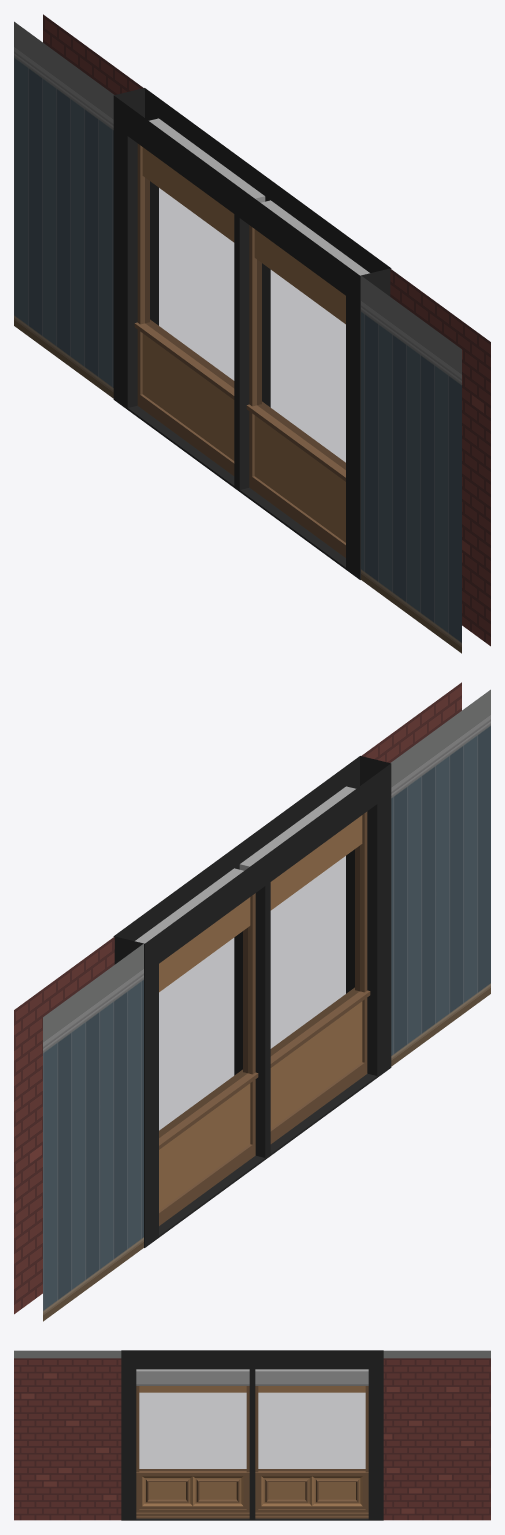
Rendered from SM_shopFront_03a.glb.
The picture shows the model from 3 angles, top to bottom: view 1: azimuth 30°, elevation 25°; view 2: azimuth 150°, elevation 25°; view 3: azimuth 270°, elevation 25°; orthographic projection. The views are drawn at different scales.
Parts seen in each view (by area): view 1: SM_shopFront_03a; view 2: SM_shopFront_03a; view 3: SM_shopFront_03a.
Part boxes in pixels (x1,y1,x2,y2): SM_shopFront_03a: [14, 14, 490, 653]; SM_shopFront_03a: [14, 682, 490, 1321]; SM_shopFront_03a: [14, 1350, 490, 1520].
Size of the model in its own units: 0.4 by 3 by 8.
Materials: 4 (3 with a texture image).
